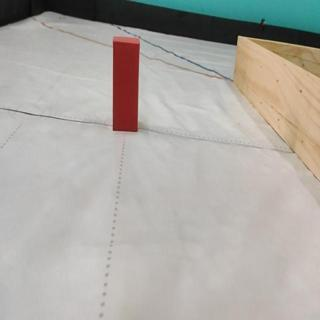redbox: (111, 35, 141, 131)
